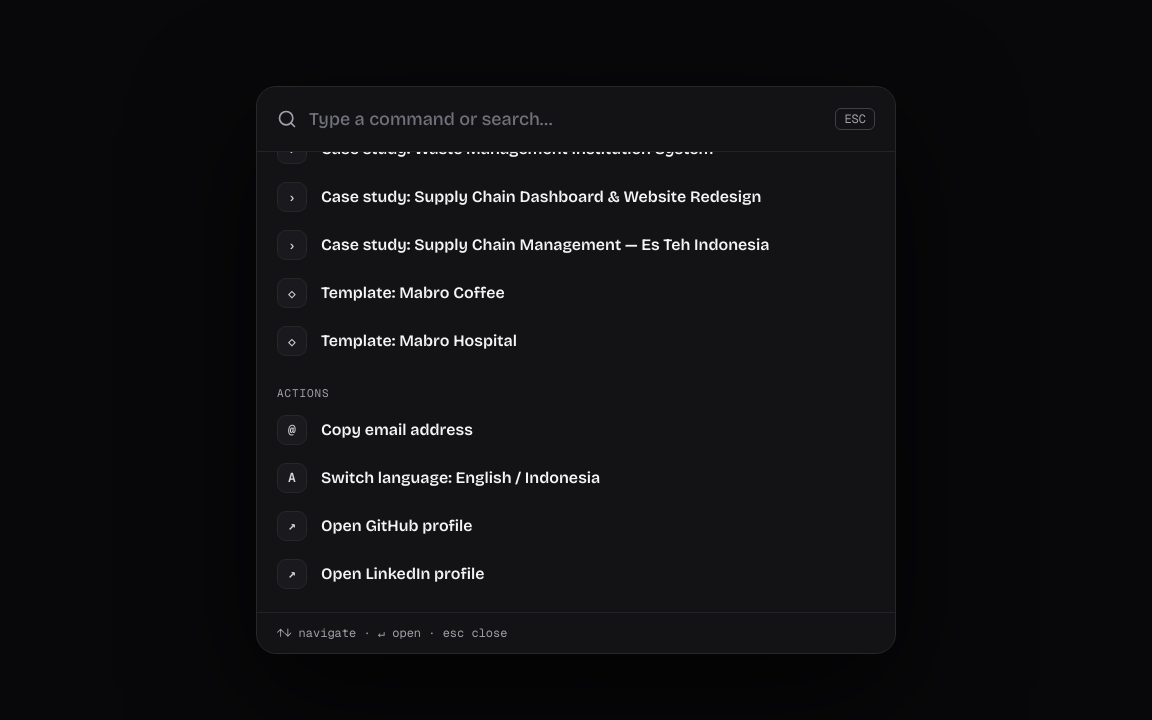
Scenario: CommandPalette › switches language
The width and height of the screenshot is (1152, 720).
(page scrolled)
Click the option "A Switch language: English / Indonesia". click: (439, 478)
box: 277,463 -> 600,493
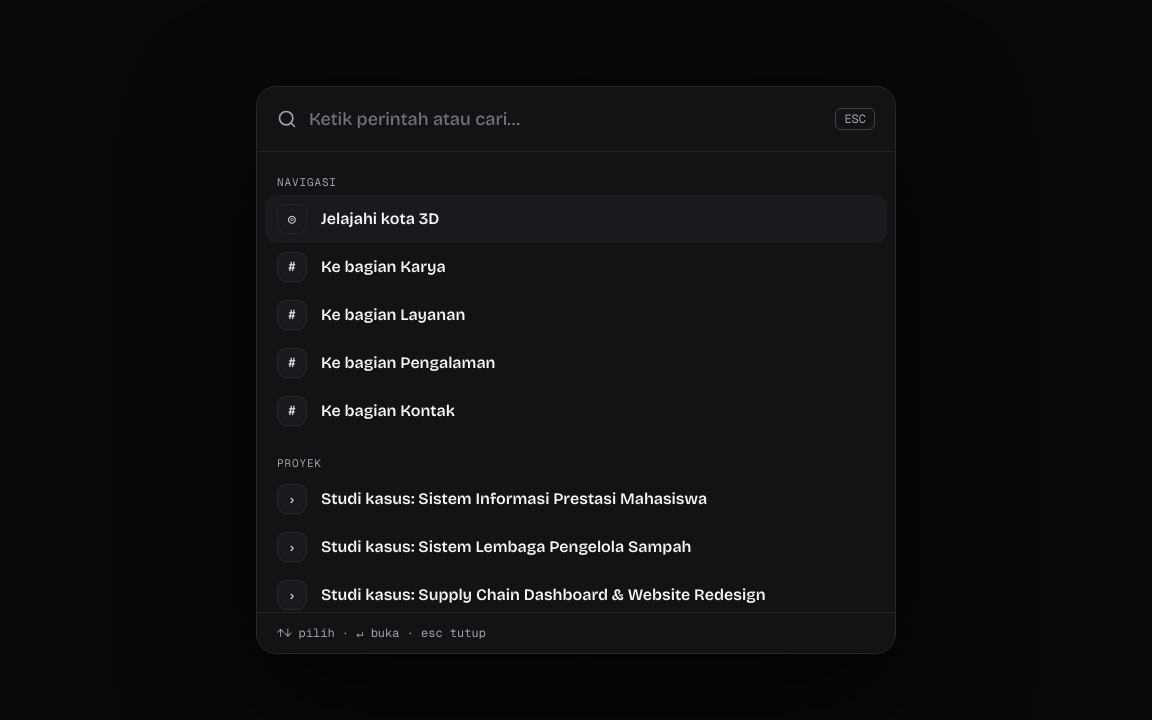
Now the option "# Ke bagian Karya" is shown, box 277,252 -> 446,282
